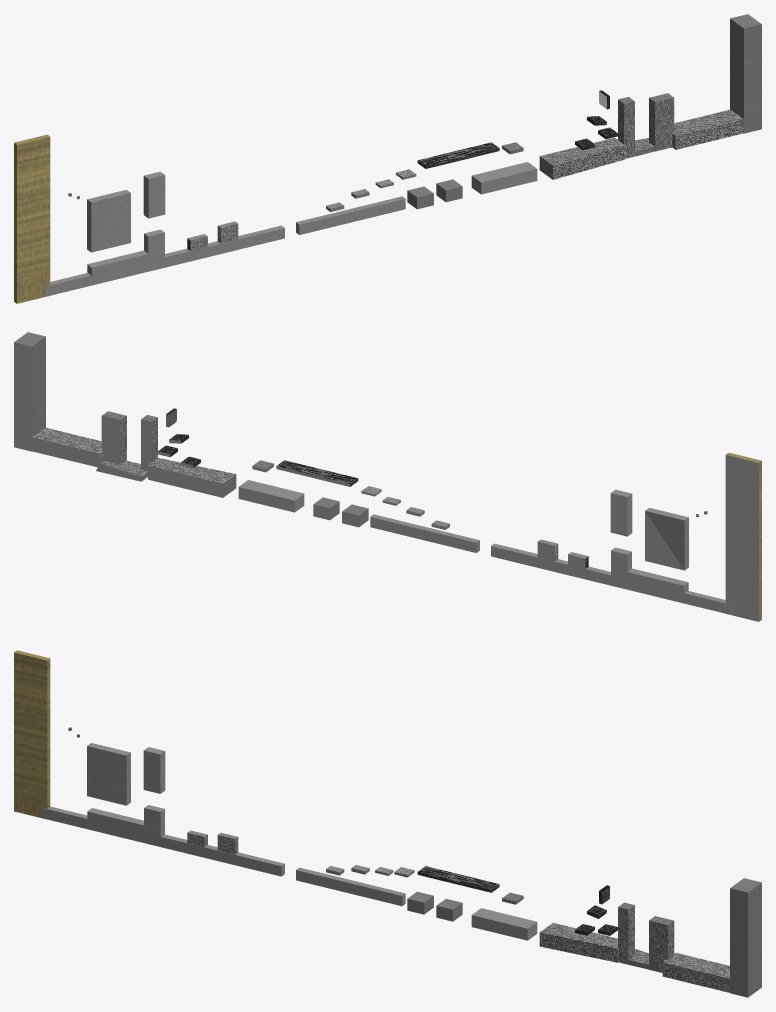
Rendered from stage2.fbx.
3 renders of one model, top to bottom at view 1: azimuth 30°, elevation 25°; view 2: azimuth 150°, elevation 25°; view 3: azimuth 330°, elevation 25°, orthographic.
Visible parts, largest first — view 1: polySurface64, polySurface65, polySurface318, polySurface317, polySurface50, polySurface24, polySurface280, polySurface281, polySurface295, polySurface305, polySurface304, polySurface278 (+6 smaller); view 2: polySurface85, polySurface86, polySurface288, polySurface289, polySurface21, polySurface20, polySurface301, polySurface302, polySurface295, polySurface325, polySurface326, polySurface296 (+4 smaller); view 3: polySurface64, polySurface65, polySurface318, polySurface317, polySurface24, polySurface50, polySurface281, polySurface280, polySurface298, polySurface297, polySurface304, polySurface139 (+3 smaller).
Part boxes in pixels (x1,y1,x2,y2): polySurface64: [17, 137, 50, 285]; polySurface65: [17, 145, 48, 303]; polySurface318: [44, 239, 281, 296]; polySurface317: [47, 228, 284, 286]; polySurface50: [91, 203, 130, 252]; polySurface24: [91, 193, 130, 242]; polySurface280: [744, 24, 761, 127]; polySurface281: [744, 30, 761, 133]; polySurface295: [730, 18, 743, 132]; polySurface305: [299, 209, 404, 234]; polySurface304: [301, 199, 405, 224]; polySurface278: [675, 132, 743, 149]; polySurface85: [725, 456, 758, 621]; polySurface86: [725, 455, 758, 620]; polySurface288: [491, 546, 726, 613]; polySurface289: [493, 546, 731, 614]; polySurface21: [645, 511, 684, 570]; polySurface20: [645, 511, 684, 570]; polySurface301: [14, 343, 31, 451]; polySurface302: [14, 342, 31, 450]; polySurface295: [32, 336, 45, 428]; polySurface325: [370, 517, 474, 552]; polySurface326: [372, 517, 476, 552]; polySurface296: [32, 348, 43, 451]; polySurface64: [14, 652, 47, 808]; polySurface65: [14, 653, 44, 818]; polySurface318: [40, 807, 277, 875]; polySurface317: [44, 808, 281, 876]; polySurface24: [87, 746, 126, 805]; polySurface50: [87, 746, 125, 805]; polySurface281: [730, 889, 747, 997]; polySurface280: [730, 888, 747, 995]; polySurface298: [748, 893, 761, 997]; polySurface297: [748, 883, 761, 985]; polySurface304: [298, 870, 402, 905]; polySurface139: [539, 932, 616, 962].
Bounding box in the file's own units: 146 × 30.39 × 6.
